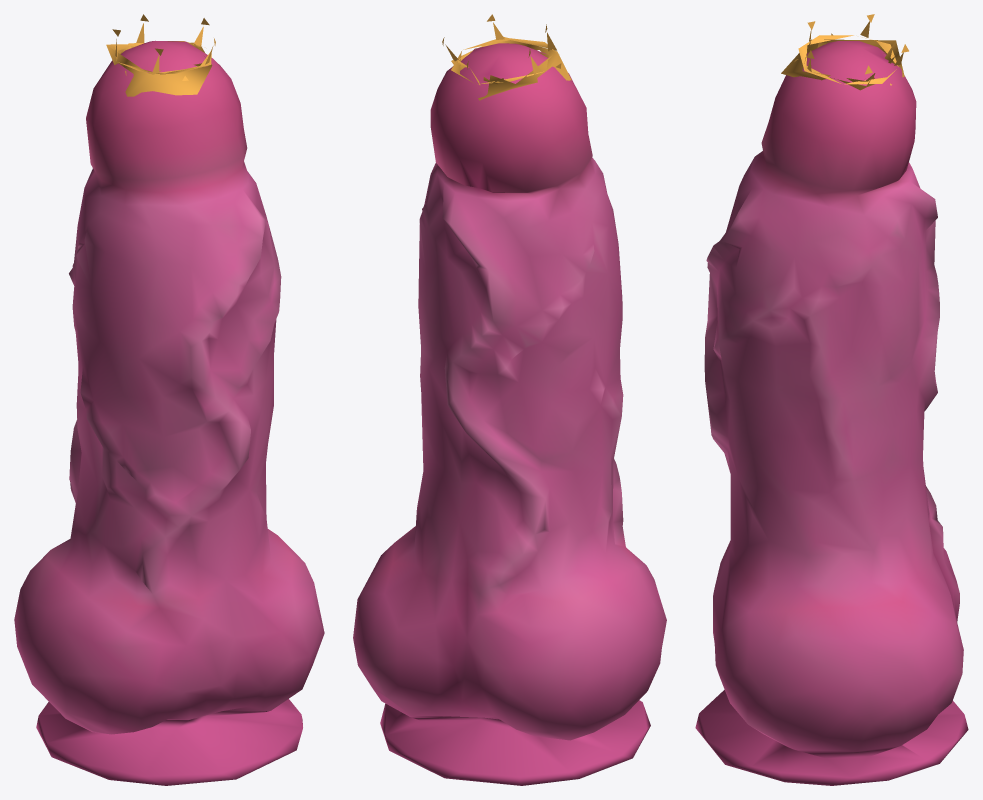
Rendered from chess-king-lod1.glb.
3 renders of one model, left to right at view 1: azimuth 30°, elevation 25°; view 2: azimuth 150°, elevation 25°; view 3: azimuth 270°, elevation 25°, orthographic.
Visible parts, largest first — view 1: king, crown; view 2: king, crown; view 3: king, crown.
Boxes of the visible parts, bbox=[...] form: king: bbox=[14, 40, 324, 785]; crown: bbox=[106, 14, 215, 96]; king: bbox=[353, 43, 666, 785]; crown: bbox=[442, 14, 571, 100]; king: bbox=[695, 41, 968, 785]; crown: bbox=[781, 14, 908, 90].
Bounding box in the file's own units: 0.5156 × 1.28 × 0.4544.
